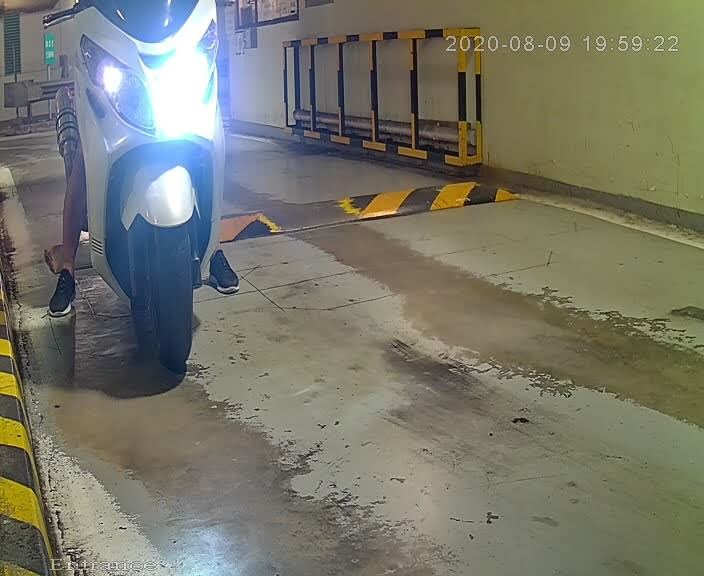motorcycle: (18, 1, 250, 394)
